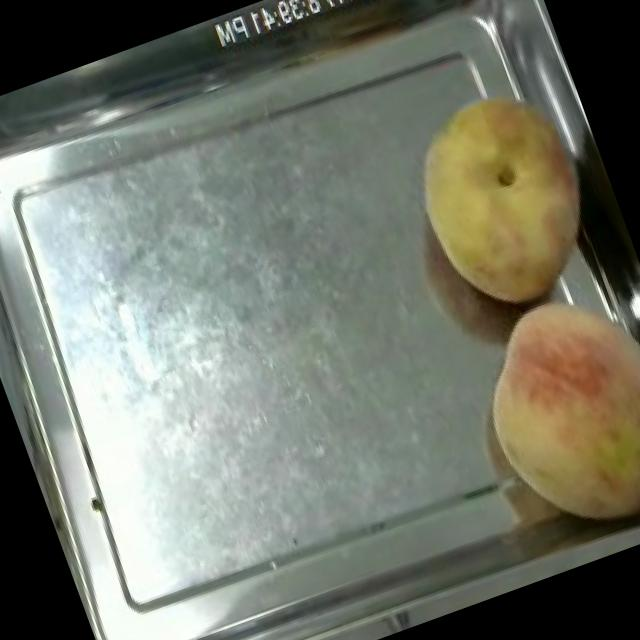Fruit: (384, 62, 627, 334), (444, 259, 640, 563)
